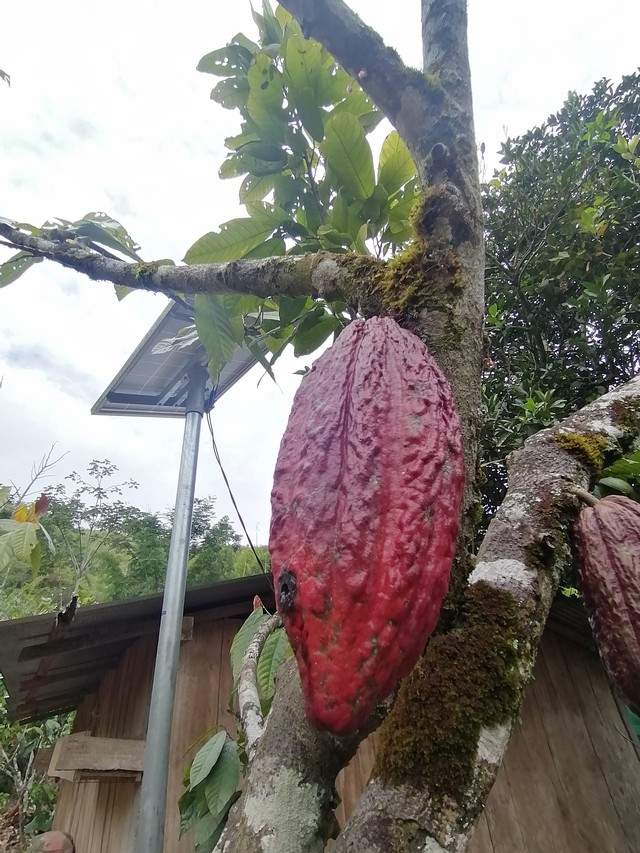carmenta foraseminis: (270, 306, 469, 741)
